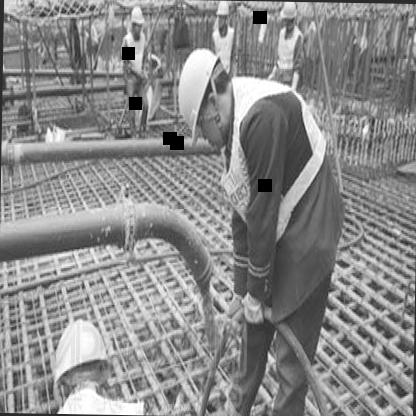helmet: (46, 312, 118, 411), (176, 42, 237, 146), (278, 2, 298, 38), (130, 0, 144, 42), (215, 0, 229, 36)
